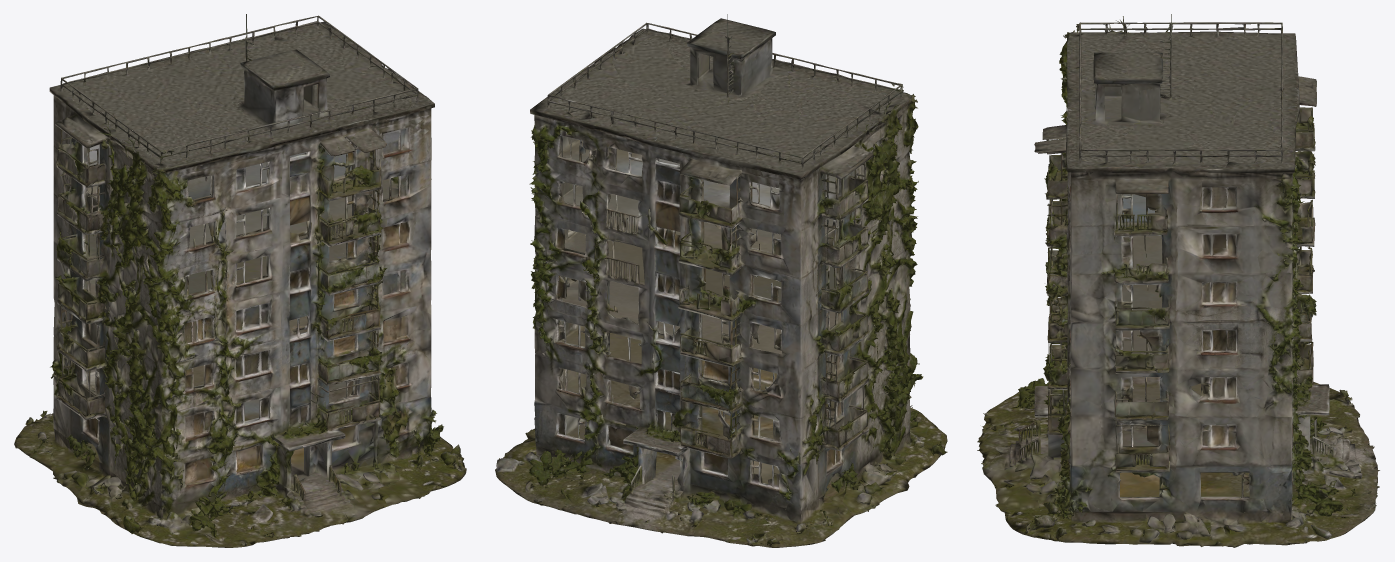
Rendered from ruin_overgrown.glb.
The picture shows the model from 3 angles, left to right: view 1: azimuth 30°, elevation 25°; view 2: azimuth 150°, elevation 25°; view 3: azimuth 270°, elevation 25°; orthographic projection. The views are drawn at different scales.
Visible parts, largest first — view 1: ruin_overgrown; view 2: ruin_overgrown; view 3: ruin_overgrown.
Boxes of the visible parts, x1,y1,x2,y2 form: ruin_overgrown: (14,14,466,547); ruin_overgrown: (495,14,947,547); ruin_overgrown: (977,14,1379,547).
Bounding box in the file's own units: 1.56 × 1.9 × 1.55.
1 material, 1 textured.
